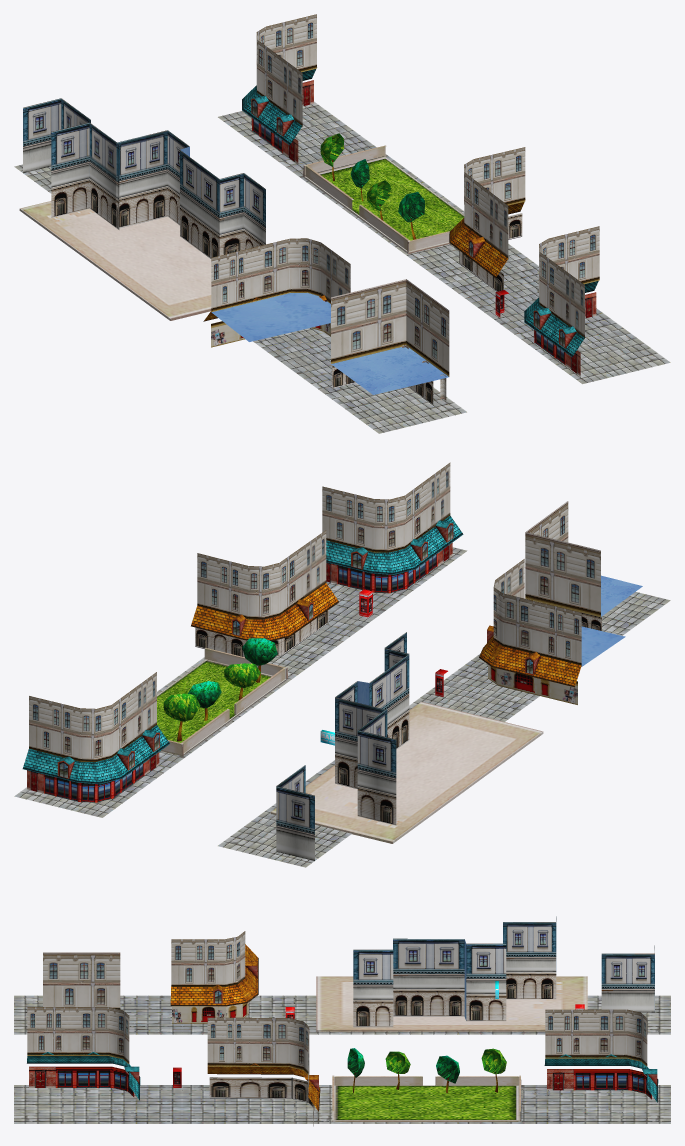
File: eu_city_mid3.fbx
3 renders of one model, top to bottom at view 1: azimuth 30°, elevation 25°; view 2: azimuth 150°, elevation 25°; view 3: azimuth 270°, elevation 25°, orthographic. The views are drawn at different scales.
Visible parts, largest first — view 1: eu_city_mid3; view 2: eu_city_mid3; view 3: eu_city_mid3.
Part boxes in pixels (x1,y1,x2,y2): eu_city_mid3: [14, 14, 670, 433]; eu_city_mid3: [14, 462, 670, 867]; eu_city_mid3: [14, 916, 670, 1126].
Bounding box in the file's own units: 5585 × 1501 × 10000.
